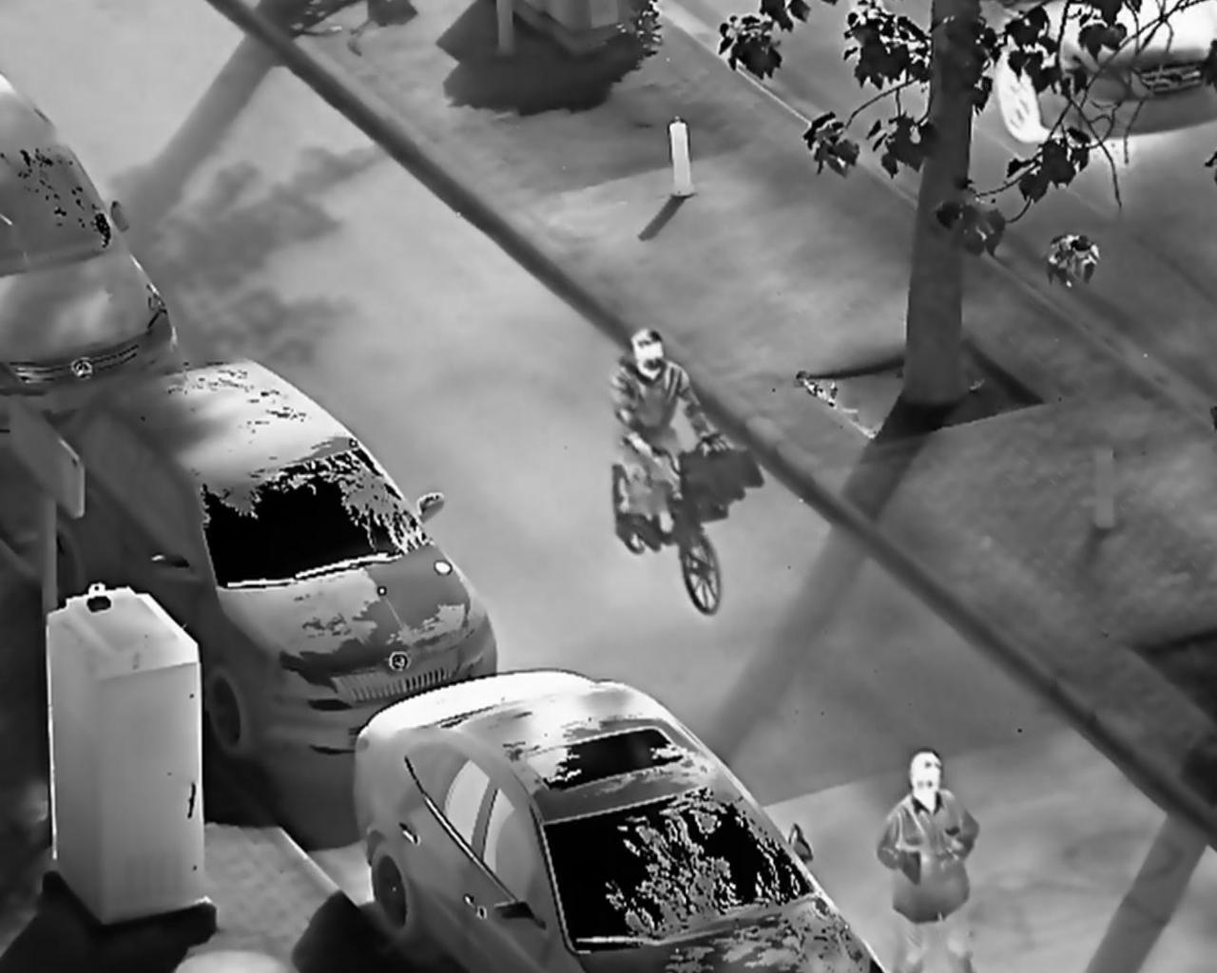person: (606, 325, 737, 552), (872, 746, 982, 973)
